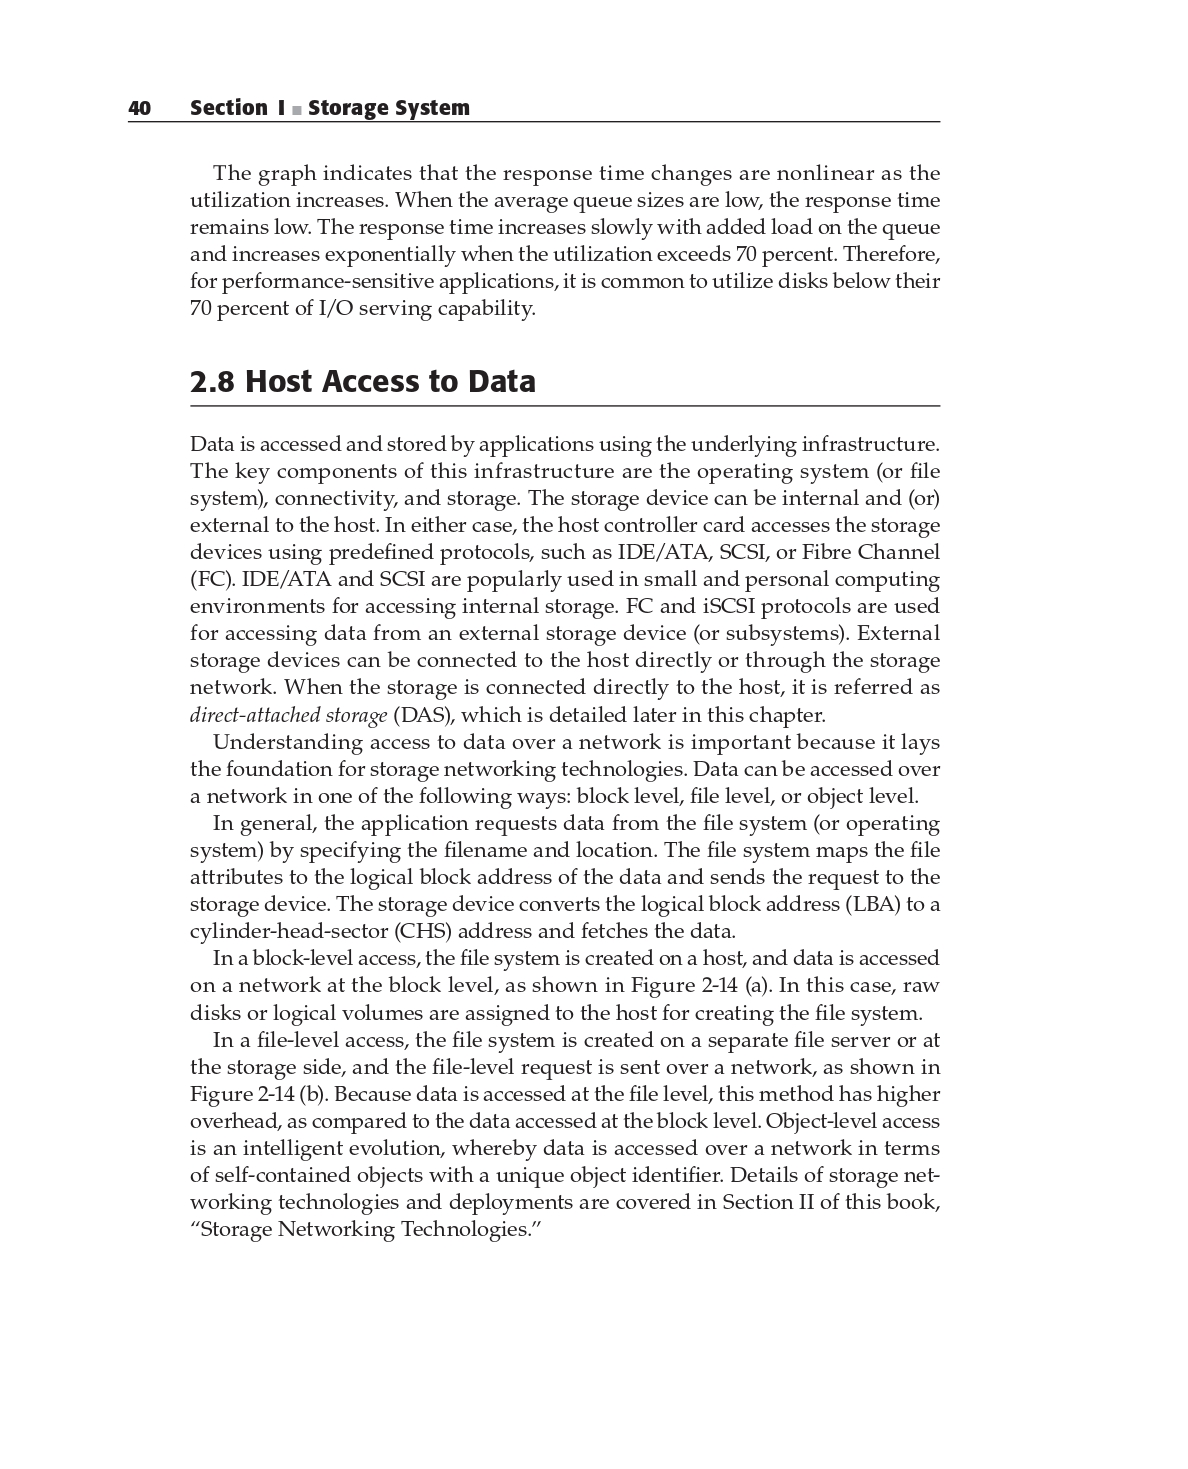Paragraph: (172, 423, 943, 727), (187, 1028, 943, 1239), (184, 149, 949, 327), (187, 818, 955, 937), (184, 941, 943, 1022), (181, 730, 949, 808), (187, 348, 558, 406), (112, 87, 485, 126)
